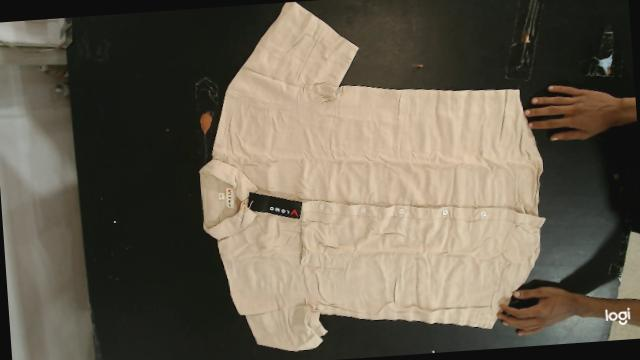new-garment: (200, 1, 543, 350)
